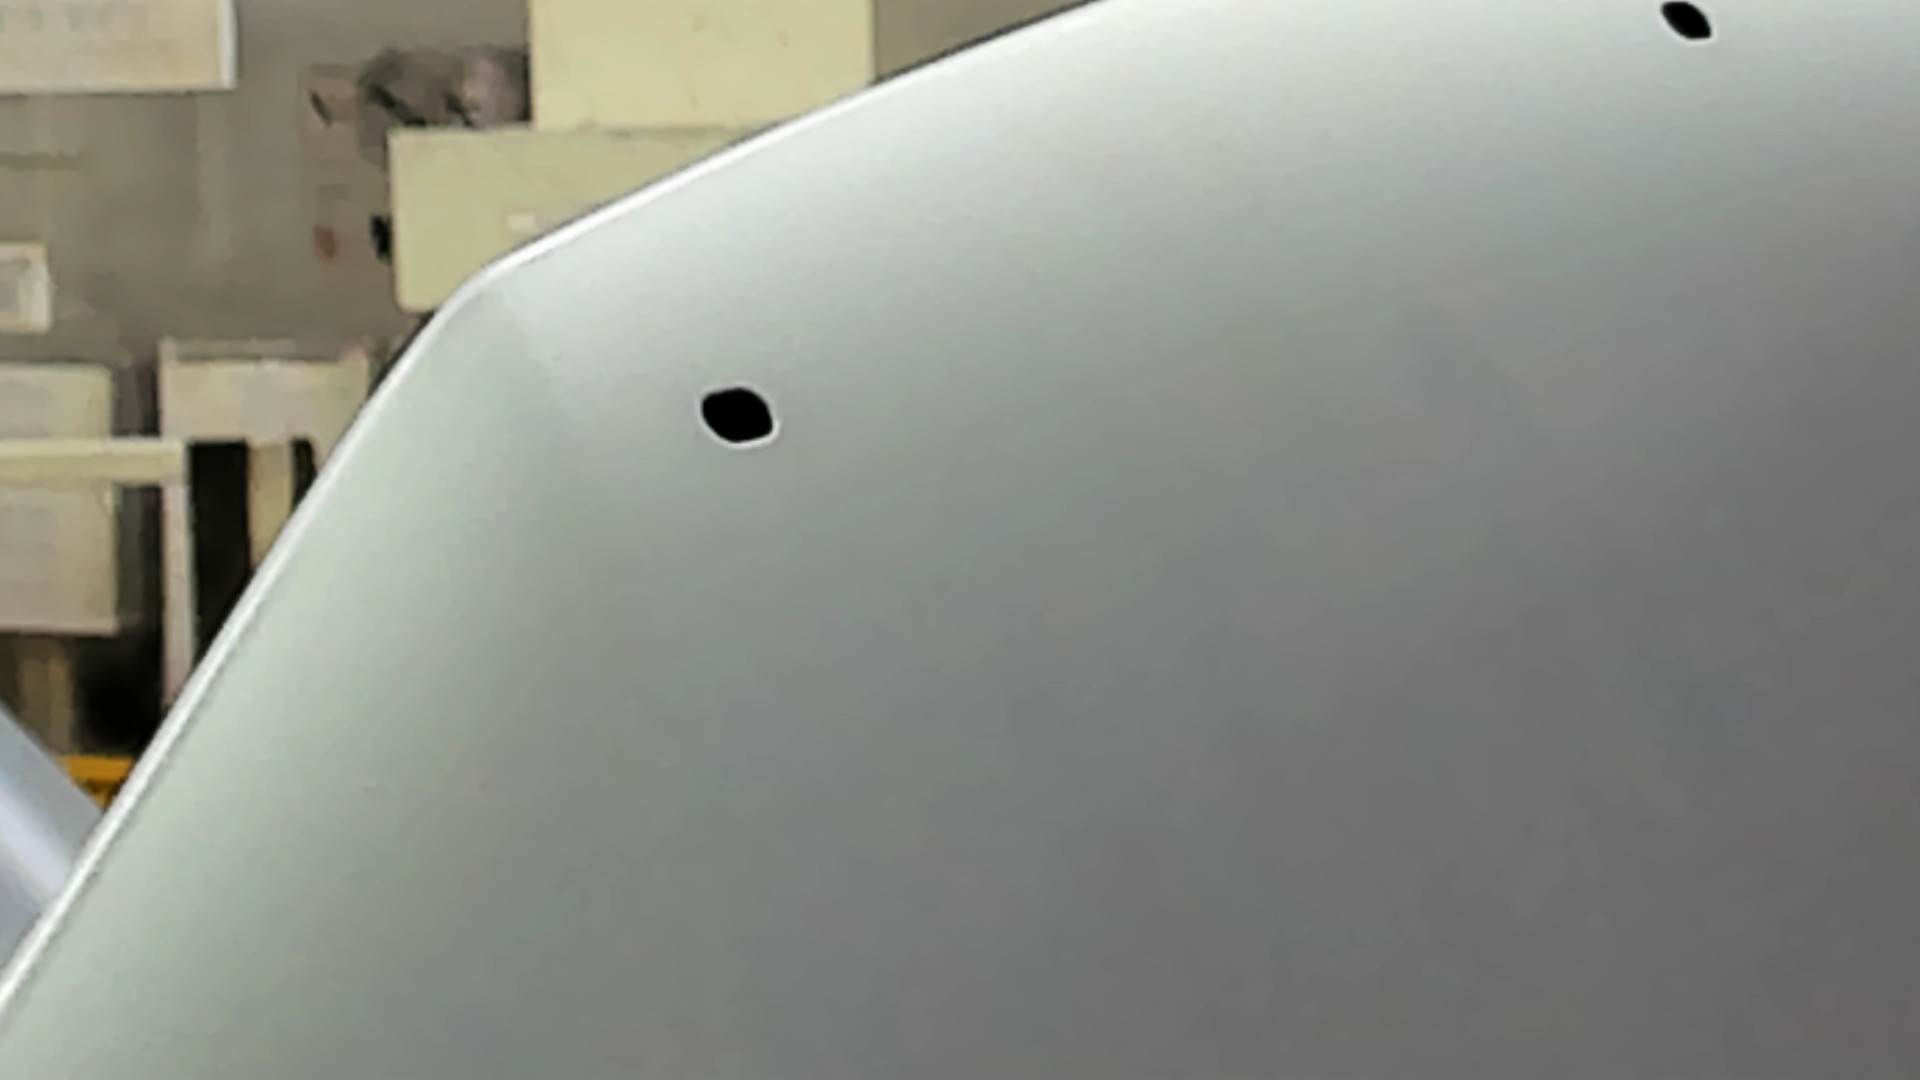amorfo: (695, 378, 781, 448), (1651, 1, 1721, 47)
